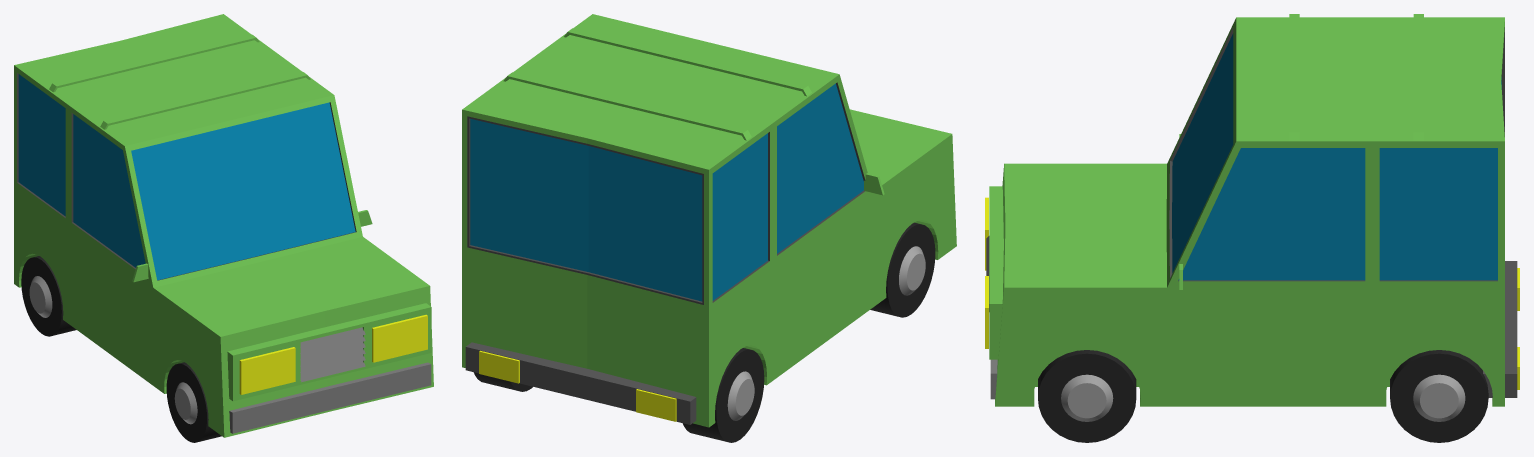
The picture shows the model from 3 angles, left to right: view 1: azimuth 30°, elevation 25°; view 2: azimuth 150°, elevation 25°; view 3: azimuth 270°, elevation 25°; orthographic projection. The views are drawn at different scales.
Parts seen in each view (by area): view 1: macchina.001, parau1.002, parau.001, fanali.002, ruota.004, ruota.006, griglia.001, portapac.000, portapac1.001, specchietti.001; view 2: macchina.001, paraurti ditro, ruota.006, ruota.004, fanali.003, portapac1.001, portapac.000; view 3: macchina.001, ruota.004, ruota.006, parau.001, paraurti ditro, portapac.000, portapac1.001, fanali.002.
Part boxes in pixels (x1,y1,x2,y2): macchina.001: (14, 14, 433, 437); parau1.002: (229, 362, 431, 433); parau.001: (227, 303, 431, 401); fanali.002: (239, 314, 427, 394); ruota.004: (166, 362, 221, 442); ruota.006: (21, 256, 76, 336); griglia.001: (300, 327, 365, 382); portapac.000: (100, 72, 310, 129); portapac1.001: (49, 34, 259, 92); specchietti.001: (132, 210, 372, 282); macchina.001: (462, 14, 956, 427); paraurti ditro: (465, 342, 696, 424); ruota.006: (474, 348, 764, 442); ruota.004: (870, 222, 935, 317); fanali.003: (479, 350, 676, 421); portapac1.001: (503, 72, 751, 140); portapac.000: (564, 28, 811, 96); macchina.001: (995, 17, 1504, 406); ruota.004: (1038, 350, 1136, 442); ruota.006: (1390, 350, 1488, 442); parau.001: (989, 186, 1003, 359); paraurti ditro: (1483, 261, 1517, 397); portapac.000: (1289, 14, 1299, 140); portapac1.001: (1413, 14, 1423, 140); fanali.002: (985, 197, 988, 348).
Bounding box in the file's own units: 207 × 211 × 331.
1 material, 1 textured.
